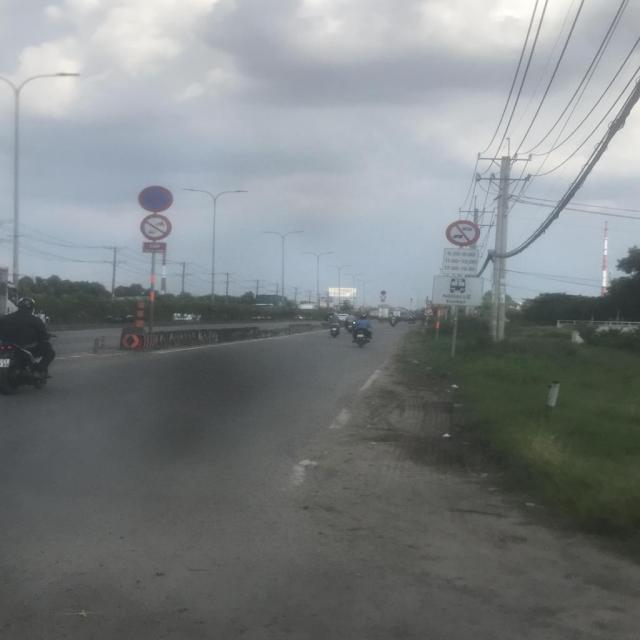107-cam-oto-khach-va-oto-tai: (446, 221, 480, 247)
